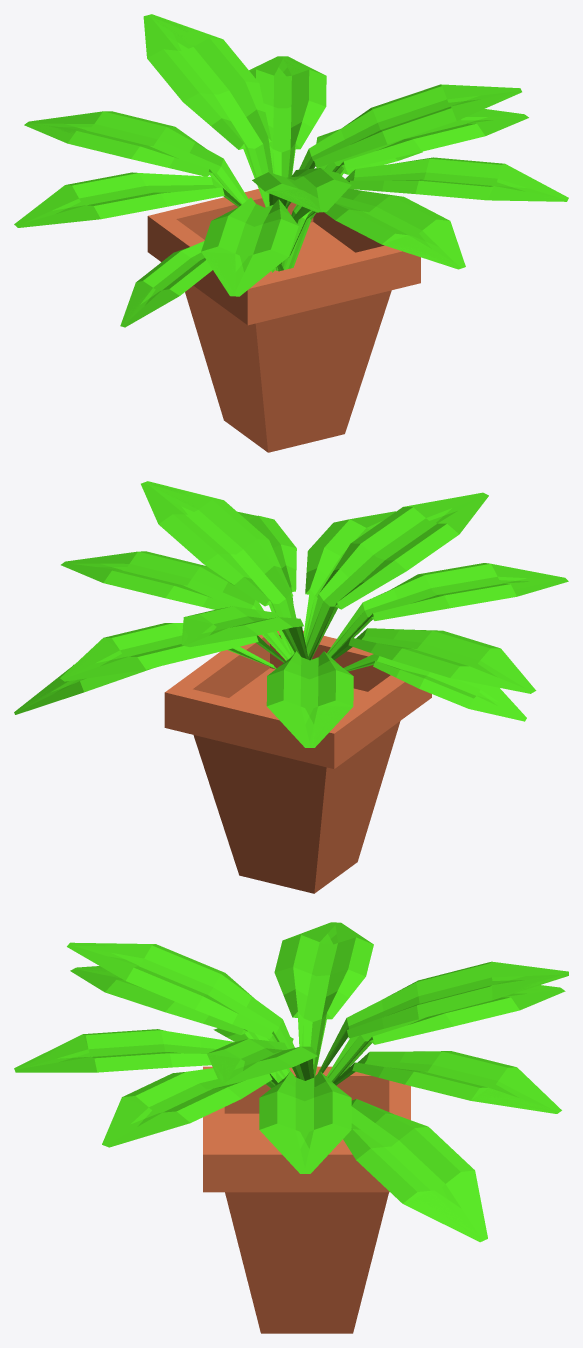
Rendered from Planta.fbx.
The picture shows the model from 3 angles, top to bottom: view 1: azimuth 30°, elevation 25°; view 2: azimuth 150°, elevation 25°; view 3: azimuth 270°, elevation 25°; orthographic projection. The views are drawn at different scales.
Visible parts, largest first — view 1: Plane, Cube; view 2: Plane, Cube; view 3: Plane, Cube.
Boxes of the visible parts, left/top/right/bottom form: Plane: left=14, top=14, right=568, bottom=327; Cube: left=147, top=189, right=420, bottom=452; Plane: left=14, top=481, right=568, bottom=747; Cube: left=164, top=630, right=431, bottom=893; Plane: left=14, top=922, right=568, bottom=1242; Cube: left=203, top=1066, right=410, bottom=1333.
Bounding box in the file's own units: 1294 × 803 × 1205.
